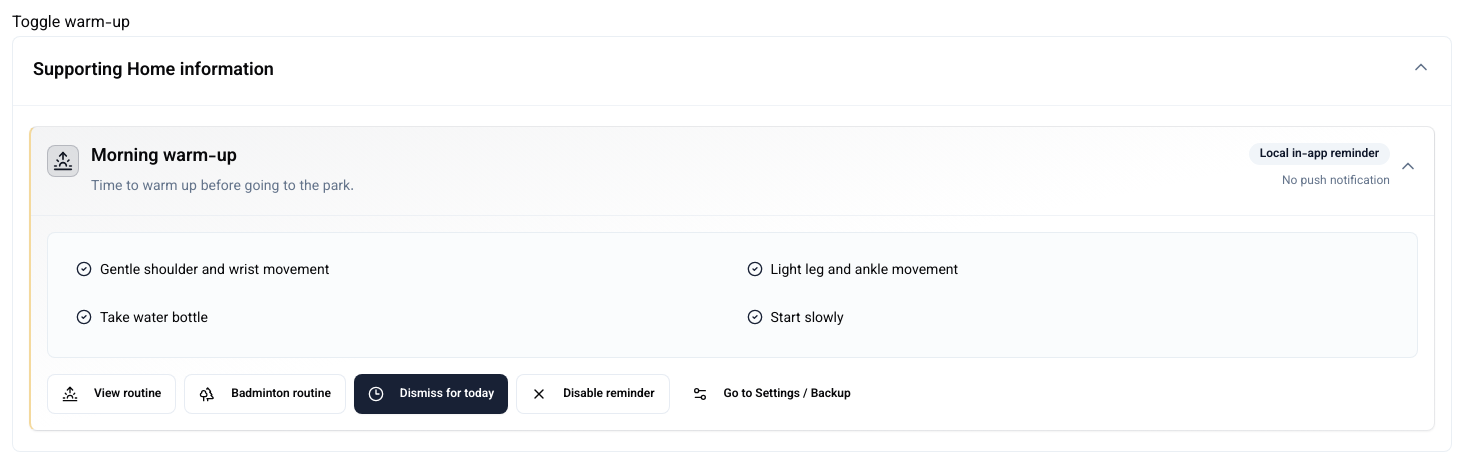
Test: restored Home warm-up connection › disables the existing preference from the card and updates the Settings toggle
Click the button "Disable reminder": x=593, y=394 [516,374,670,414]
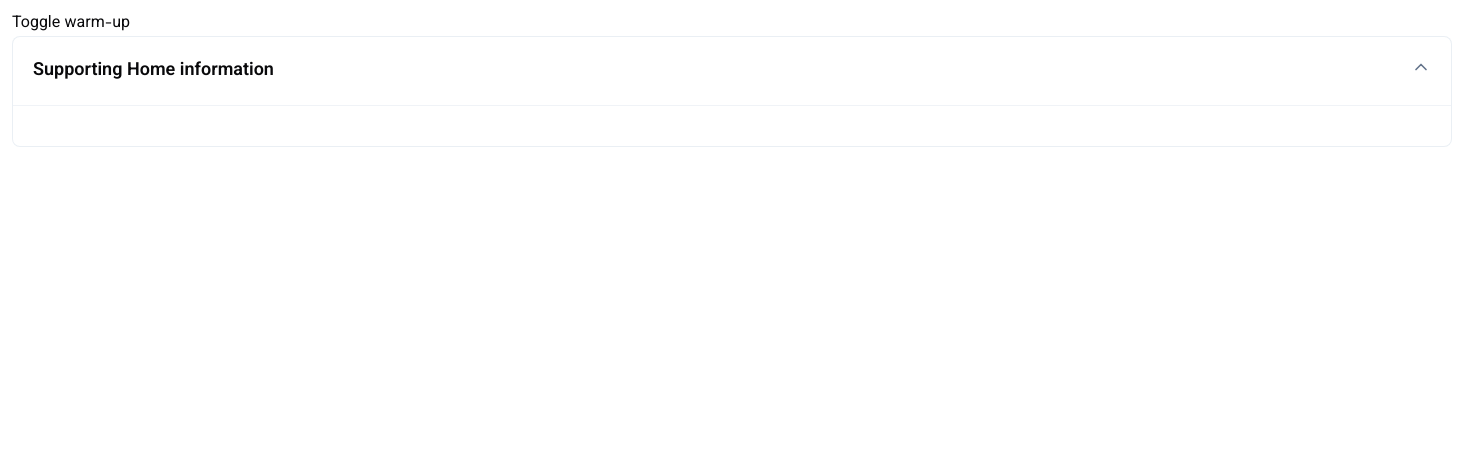
Now the element with id "warmup-test" is gone
